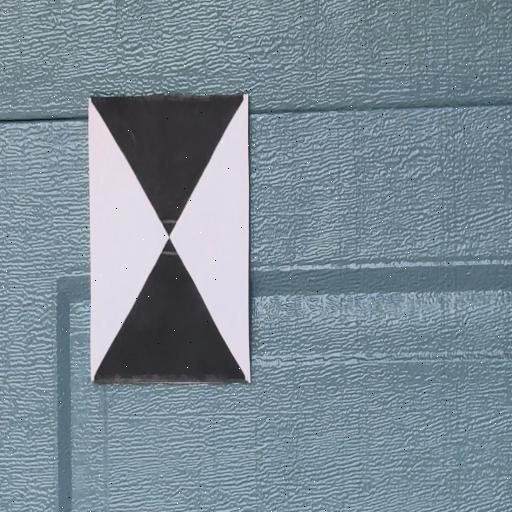target: (89, 99, 252, 381)
